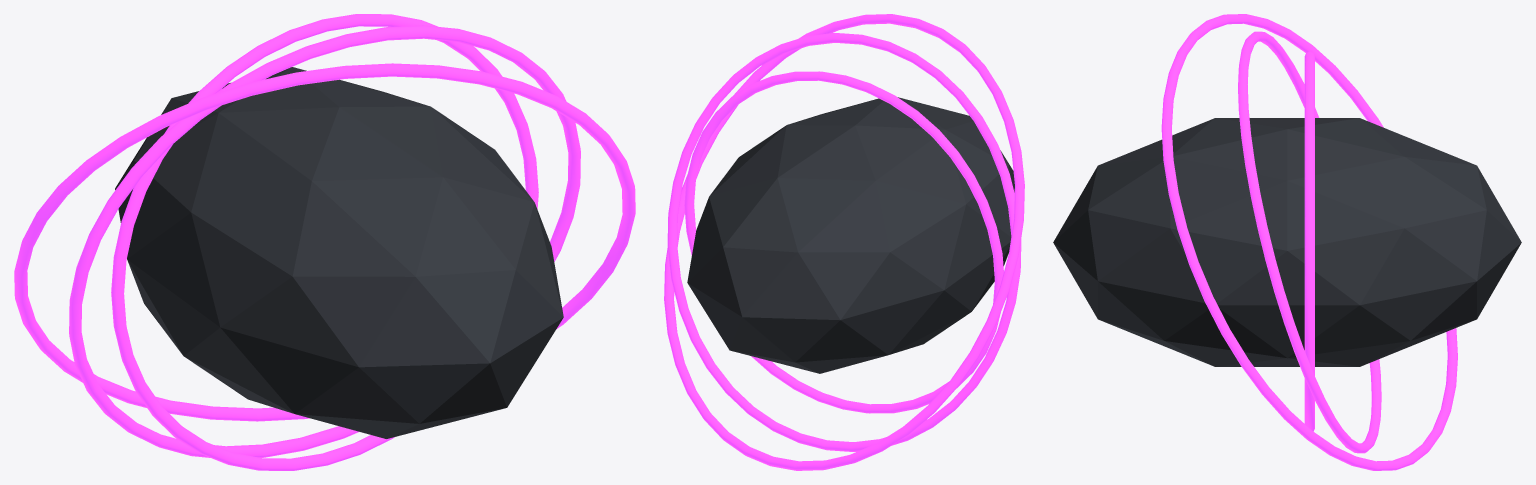
File: env_void.glb
3 views of the same model, side by side, from view 1: azimuth 30°, elevation 25°; view 2: azimuth 150°, elevation 25°; view 3: azimuth 270°, elevation 25° (orthographic). The views are drawn at different scales.
Parts seen in each view (by area): view 1: void-ink-rock, void-orbit2, void-orbit1, void-orbit0; view 2: void-ink-rock, void-orbit1, void-orbit2, void-orbit0; view 3: void-ink-rock, void-orbit2, void-orbit1, void-orbit0.
Boxes of the visible parts, bbox=[...] form: void-ink-rock: bbox=[115, 67, 563, 438]; void-orbit2: bbox=[14, 63, 635, 421]; void-orbit1: bbox=[69, 25, 580, 457]; void-orbit0: bbox=[111, 14, 538, 470]; void-ink-rock: bbox=[687, 97, 1014, 373]; void-orbit1: bbox=[667, 33, 1021, 451]; void-orbit2: bbox=[664, 14, 1024, 470]; void-orbit0: bbox=[684, 71, 1003, 413]; void-ink-rock: bbox=[1053, 118, 1521, 366]; void-orbit2: bbox=[1161, 14, 1457, 470]; void-orbit1: bbox=[1238, 31, 1381, 453]; void-orbit0: bbox=[1304, 51, 1314, 431].
Bounding box in the file's own units: 3.15 × 2.81 × 3.15.
